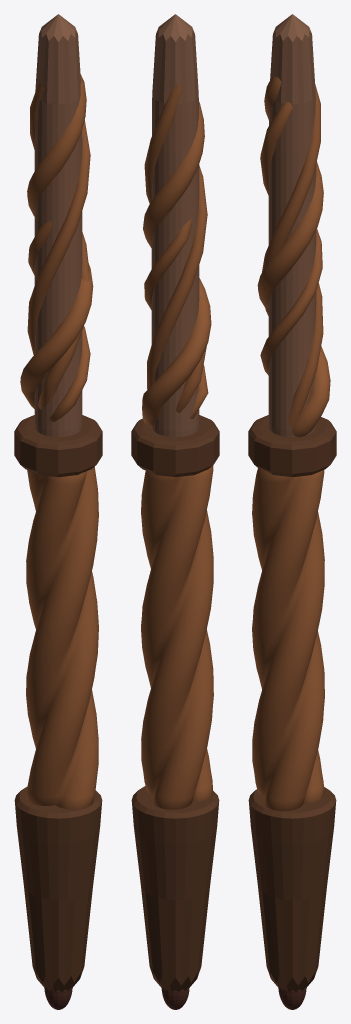
Rendered from Wand 876.glb.
3 renders of one model, left to right at view 1: azimuth 90°, elevation 25°; view 2: azimuth 150°, elevation 25°; view 3: azimuth 270°, elevation 25°, orthographic.
Parts seen in each view (by area): view 1: GeneratedWand; view 2: GeneratedWand; view 3: GeneratedWand.
Part boxes in pixels (x1,y1,x2,y2): GeneratedWand: (14, 14, 102, 1009); GeneratedWand: (131, 14, 219, 1009); GeneratedWand: (248, 14, 336, 1009).
Bounding box in the file's own units: 0.0398 × 0.4942 × 0.0398.
